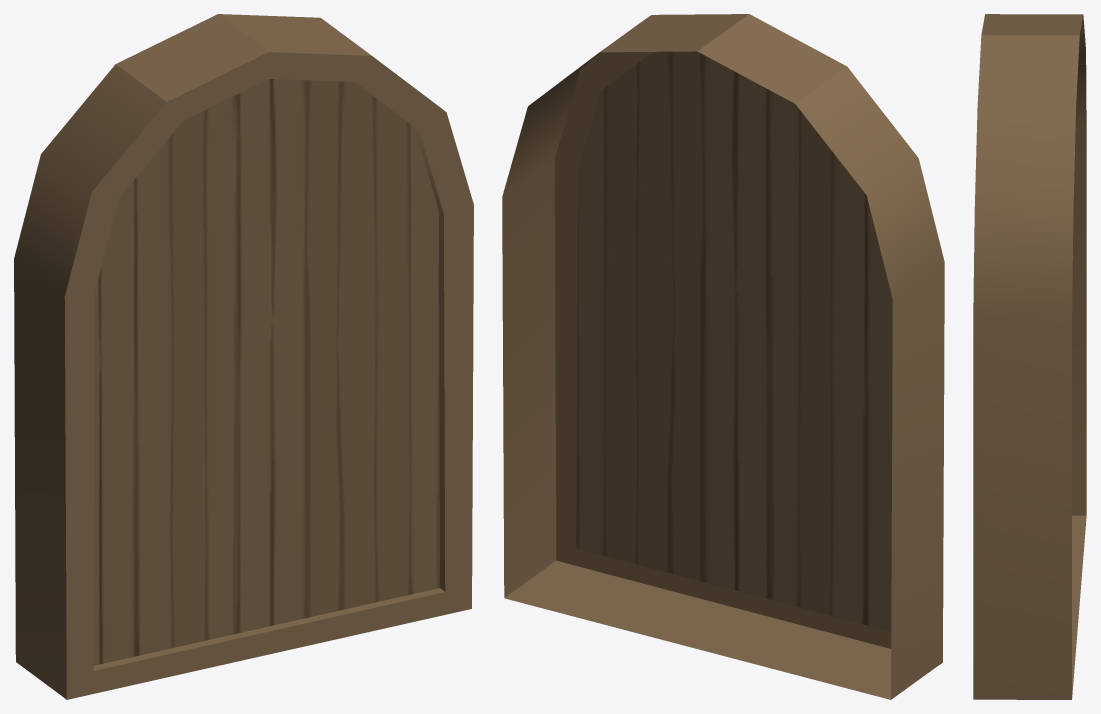
The model's file is SM_Env_Door_14.fbx.
3 renders of one model, left to right at view 1: azimuth 30°, elevation 25°; view 2: azimuth 150°, elevation 25°; view 3: azimuth 270°, elevation 25°, orthographic. The views are drawn at different scales.
Visible parts, largest first — view 1: SM_Env_Door_14; view 2: SM_Env_Door_14; view 3: SM_Env_Door_14.
Boxes of the visible parts, box(x1,y1,x2,y2) form: SM_Env_Door_14: box(14, 14, 473, 699); SM_Env_Door_14: box(502, 14, 944, 699); SM_Env_Door_14: box(973, 14, 1086, 699).
Bounding box in the file's own units: 122 × 175 × 31.37.
Materials: 1 (1 with a texture image).
